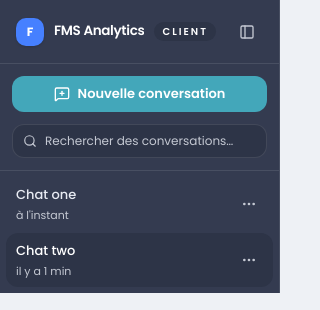
Scenario: ConversationsSidebar › search filters sessions and shows No matches
This screenshot has width=320, height=310.
Type "one" into the field with placeholder "Rechercher des conversations…". click: [150, 141]
box: [45,125,256,157]
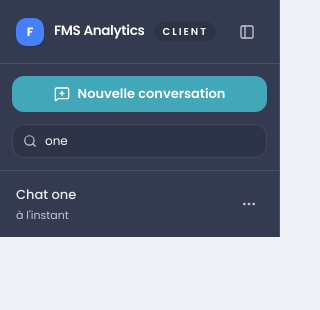
Expected: the text "Chat one" is shown, [16,185,76,204]
Expected: the button "Chat two" is gone
Replace the text in the field with placeholder "Rechercher des conversations…" with "zzz". click: [150, 141]
box: [45,125,256,157]
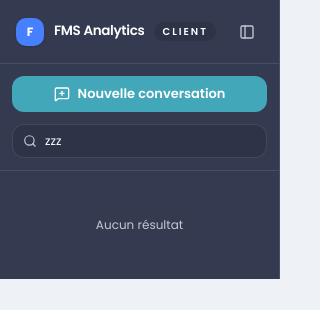
Expected: the text "Aucun résultat" is shown, [96,216,183,233]
